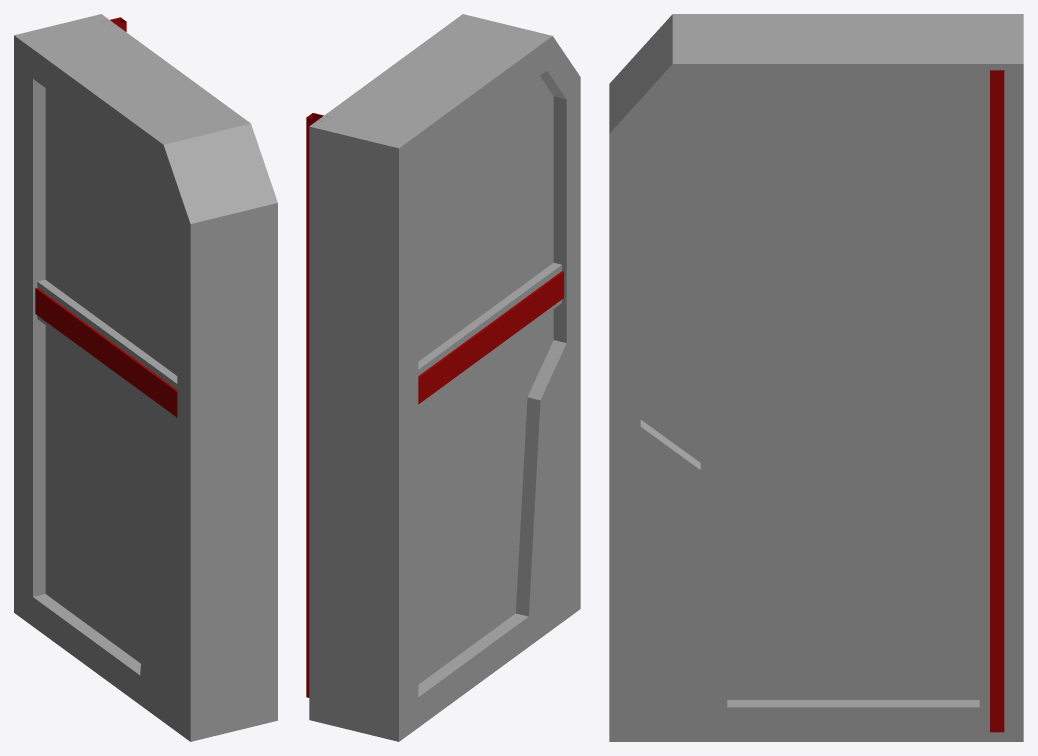
The model's file is door_2_withLEds.fbx.
3 renders of one model, left to right at view 1: azimuth 30°, elevation 25°; view 2: azimuth 150°, elevation 25°; view 3: azimuth 270°, elevation 25°, orthographic. The views are drawn at different scales.
Visible parts, largest first — view 1: Door_R, Led_door1; view 2: Door_R, Led_door1, pCube20; view 3: Door_R, pCube20.
Boxes of the visible parts, x1,y1,x2,y2 form: Door_R: (14,14,277,741); Led_door1: (35,288,177,417); Door_R: (309,14,580,741); Led_door1: (418,271,563,404); pCube20: (306,113,327,697); Door_R: (609,14,1023,741); pCube20: (990,70,1004,732).
Bounding box in the file's own units: 80.99 × 455 × 252.
